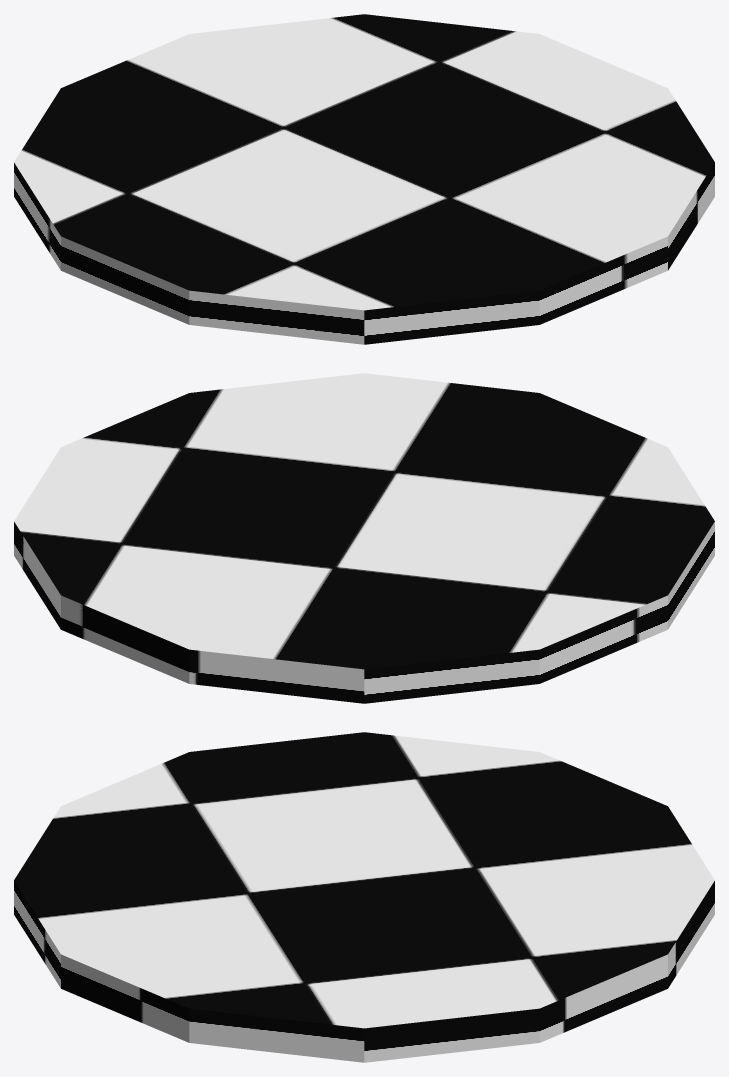
The model's file is finish.glb.
3 views of the same model, one above another, from view 1: azimuth 30°, elevation 25°; view 2: azimuth 150°, elevation 25°; view 3: azimuth 270°, elevation 25° (orthographic).
Parts seen in each view (by area): view 1: Cylinder; view 2: Cylinder; view 3: Cylinder.
Boxes of the visible parts, x1,y1,x2,y2 form: Cylinder: [14, 14, 714, 344]; Cylinder: [14, 373, 714, 703]; Cylinder: [14, 732, 714, 1062].
Bounding box in the file's own units: 6.79 × 0.3674 × 6.79.
1 material, 1 textured.
